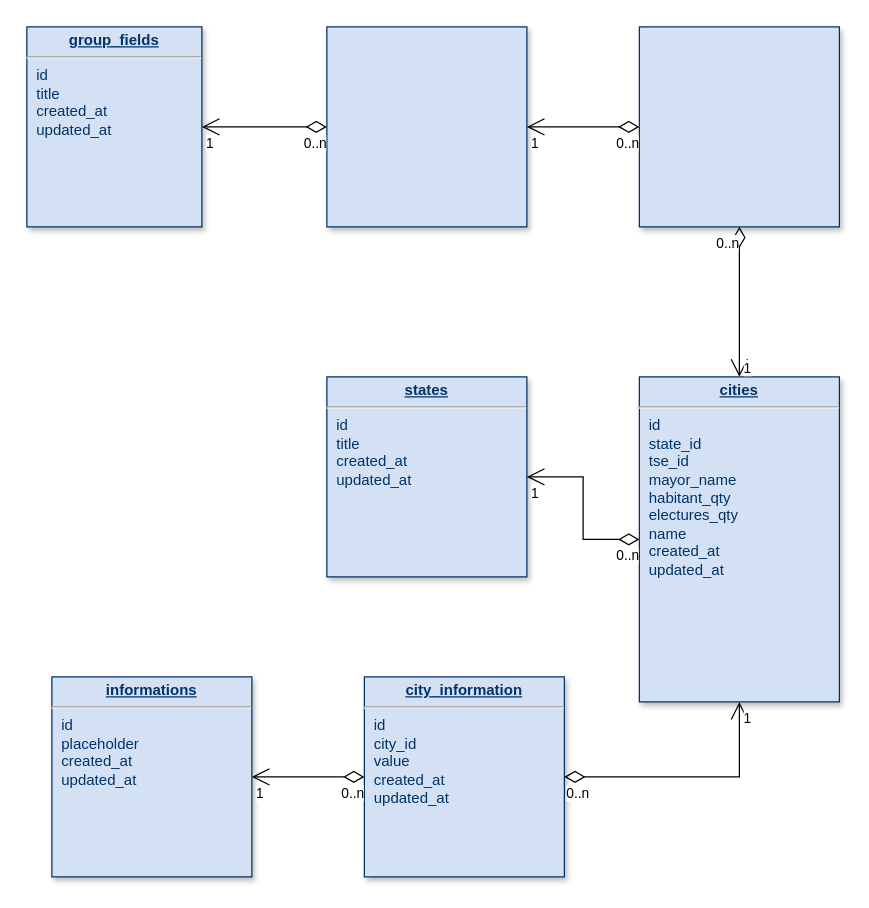
This 869x908 diagram has some shape labels left out. The centre of each missing label's shape, as x and y in pixels:
"field_values id fields_id city_id value created_at updated_at" goes at pixel 740 128.
"fields id form_id type uuid placeholder created_at updated_at" goes at pixel 427 128.
